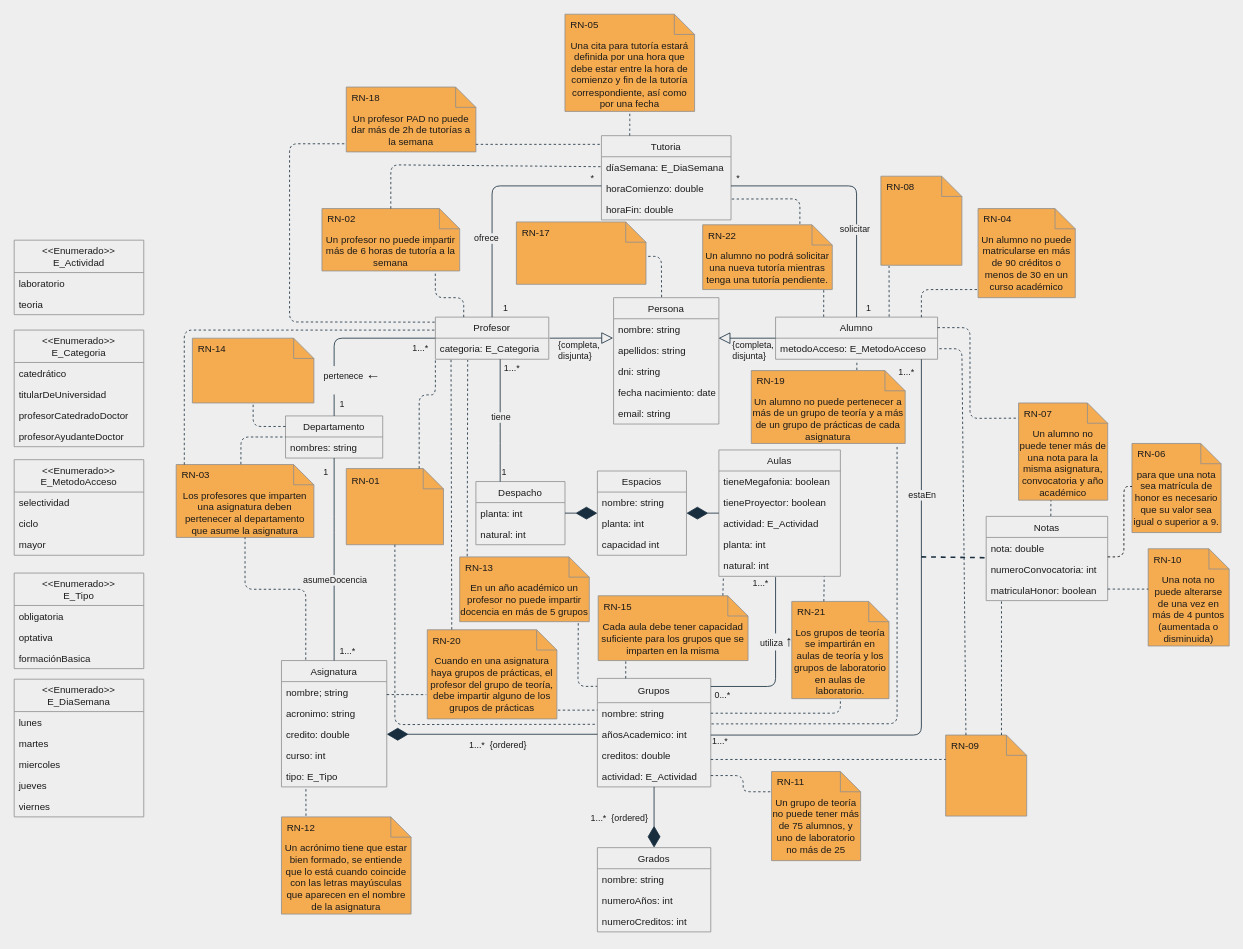
This 1243x949 diagram has some shape labels left out. The centre of each missing label's shape, as x and y in pixels:
"En cada departamento se tiene que cumplir que #CU+#TU > #PCD+#PAD" goes at point 253,370.
"Los correos tienen que estar bien formados (contienen @, y un punto)" goes at point 581,252.
"Un alumno no puede acceder por selectividad teniendo menos de 16 años" goes at point 921,220.
"Un alumno no puede tener notas en grupos a los que no pertenece" goes at point 986,775.
"Un profesor no puede impartir más de 24 créditos por curso académico" goes at point 394,506.
